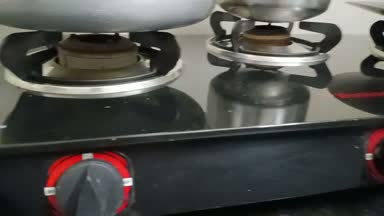noflame_gason: (12, 28, 177, 216)
